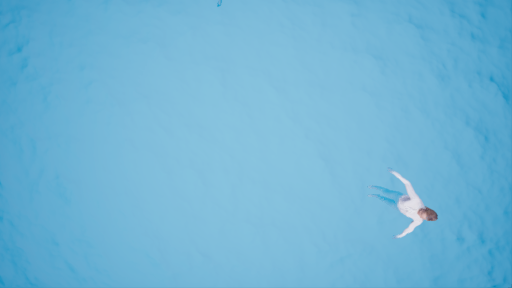person: (372, 168, 436, 239)
